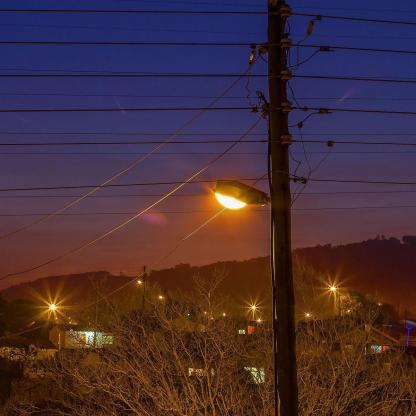other: (187, 180, 260, 214), (37, 292, 71, 317)
